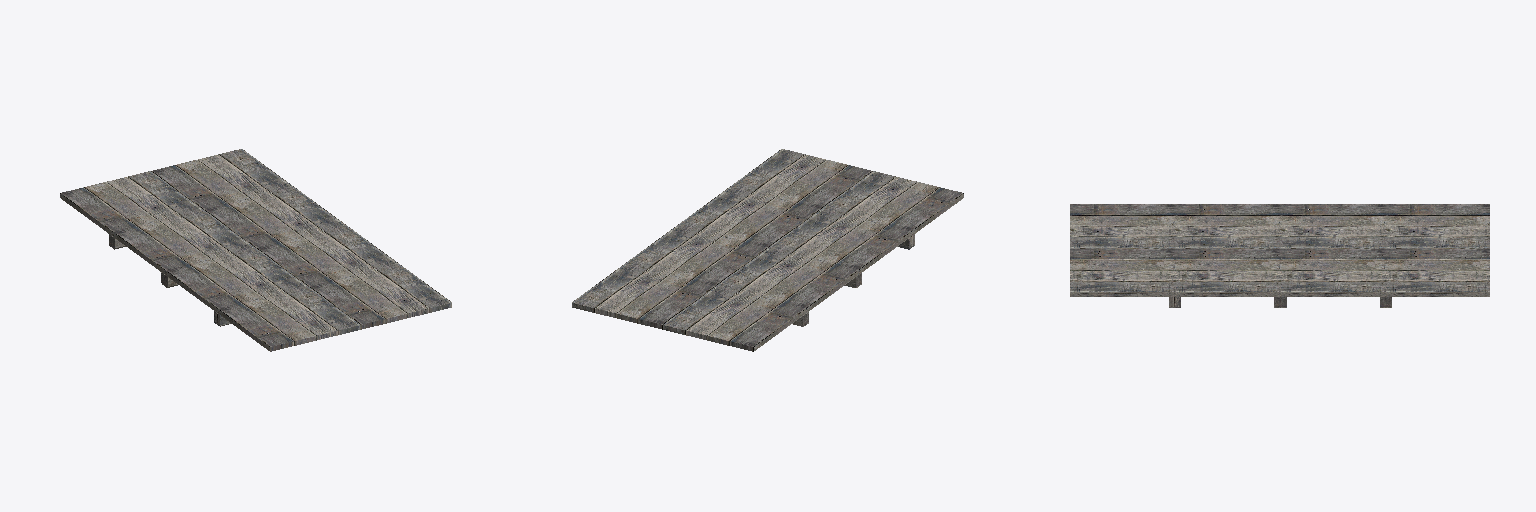
The picture shows the model from 3 angles: view 1: azimuth 30°, elevation 25°; view 2: azimuth 150°, elevation 25°; view 3: azimuth 270°, elevation 25°; orthographic projection.
Visible parts, largest first — view 1: Box01; view 2: Box01; view 3: Box01.
Boxes of the visible parts, box(x1,y1,x2,y2) form: Box01: box(60, 149, 451, 351); Box01: box(572, 149, 963, 351); Box01: box(1070, 204, 1489, 307).
Size of the model in its own units: 2 by 0.1691 by 4.
Materials: 1 (1 with a texture image).